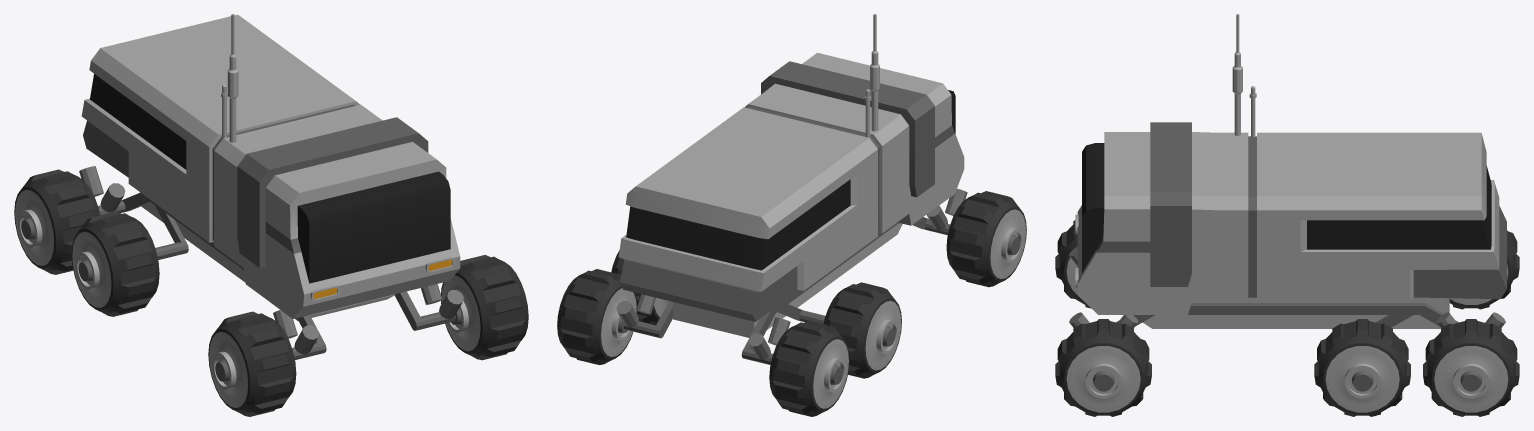
The model's file is Rover_2-transformed.glb.
3 views of the same model, side by side, from view 1: azimuth 30°, elevation 25°; view 2: azimuth 150°, elevation 25°; view 3: azimuth 270°, elevation 25° (orthographic). The views are drawn at different scales.
Visible parts, largest first — view 1: Wheel_1; view 2: Wheel_1; view 3: Wheel_1.
Part boxes in pixels (x1,y1,x2,y2): Wheel_1: (14,14,528,416); Wheel_1: (557,14,1026,416); Wheel_1: (1055,14,1519,416).
Bounding box in the file's own units: 4.58 × 4.88 × 6.56.
1 material, 1 textured.
